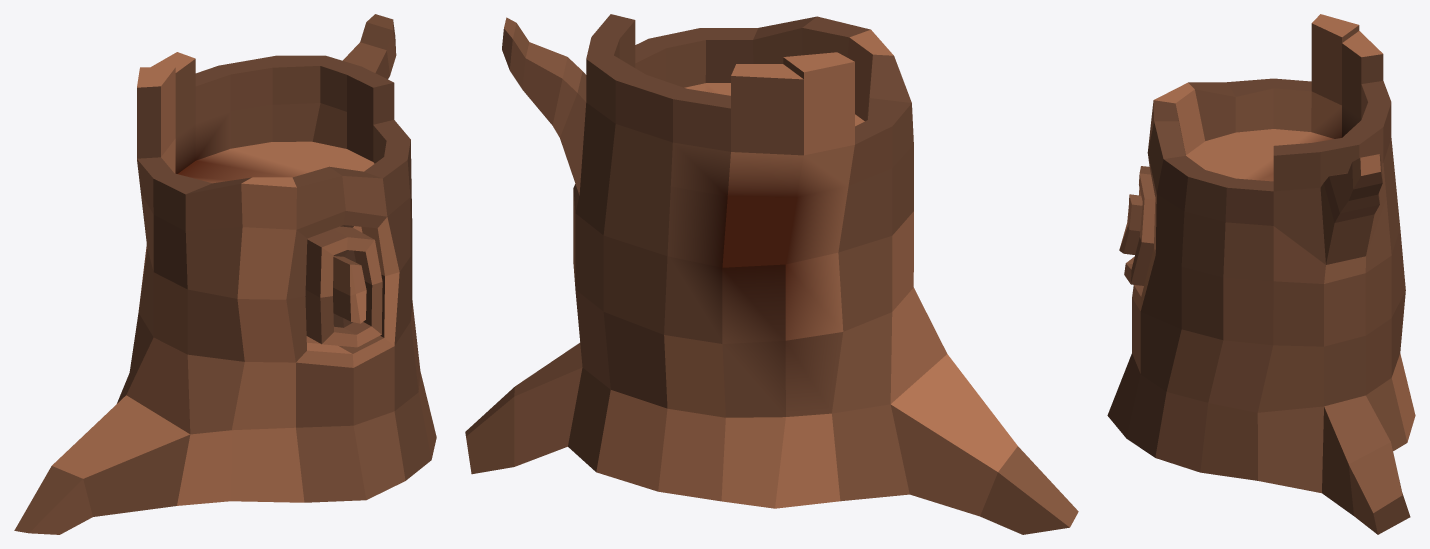
File: broken tree log.fbx
3 views of the same model, side by side, from view 1: azimuth 30°, elevation 25°; view 2: azimuth 150°, elevation 25°; view 3: azimuth 270°, elevation 25° (orthographic). The views are drawn at different scales.
Parts seen in each view (by area): view 1: Cube; view 2: Cube; view 3: Cube.
Boxes of the visible parts, bbox=[...] form: Cube: bbox=[14, 14, 436, 534]; Cube: bbox=[465, 14, 1078, 534]; Cube: bbox=[1107, 14, 1415, 534].
Bounding box in the file's own units: 368 × 305 × 223.
